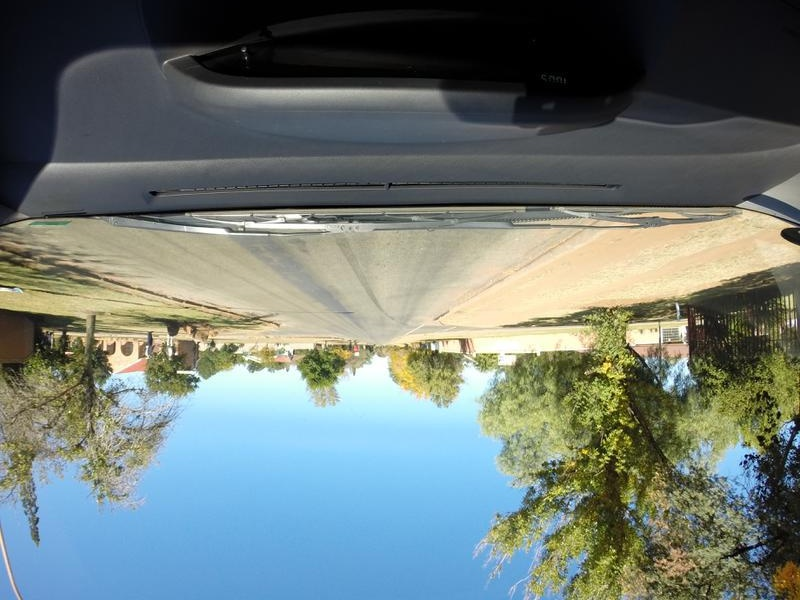pothole: (330, 309, 352, 314)
